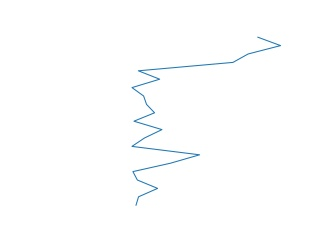crevasseRiverChannelBar: (128, 33, 285, 206)
